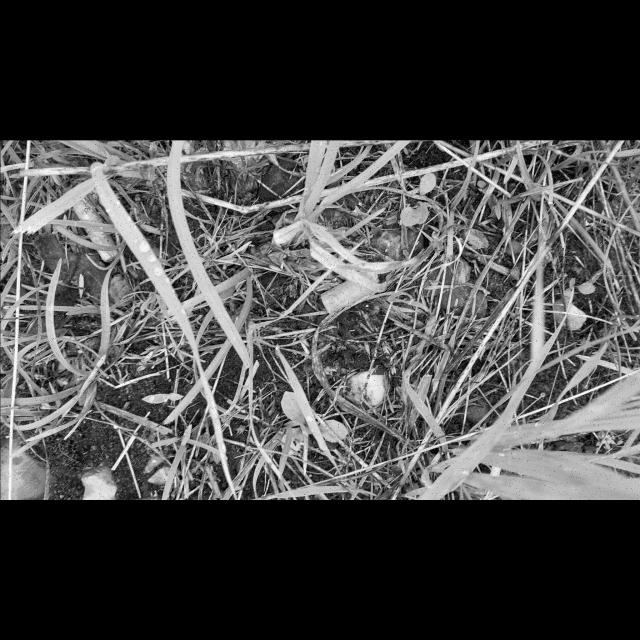cigarette: (321, 270, 379, 314)
